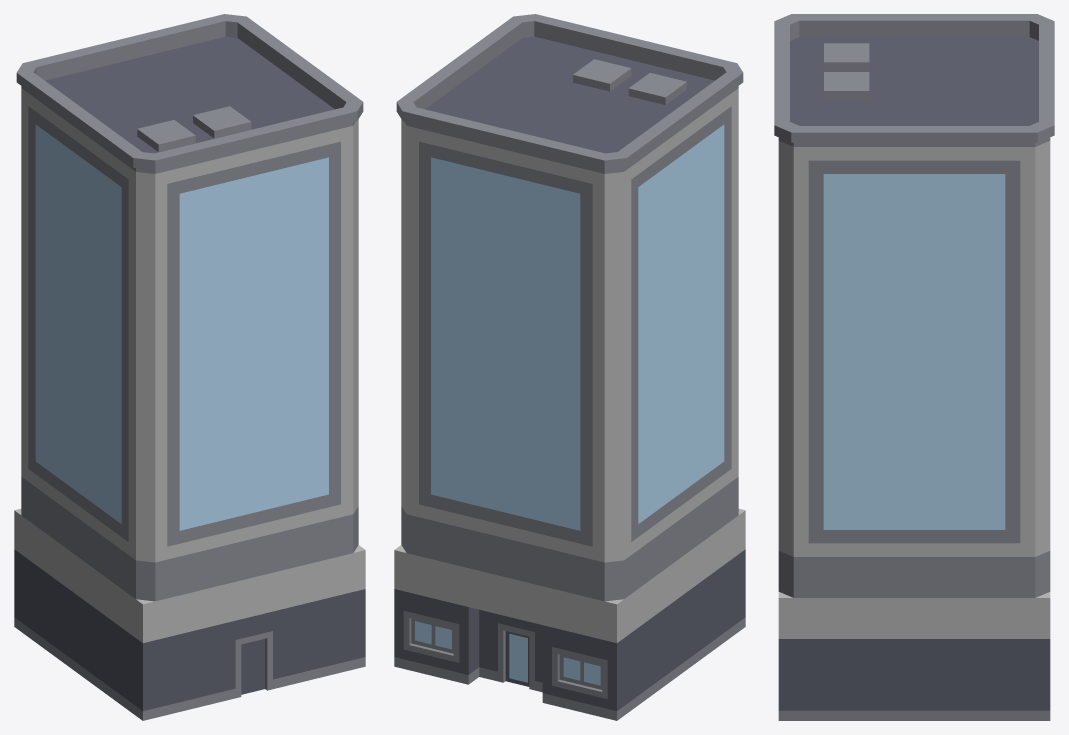
The model's file is skyscraperA.glb.
The picture shows the model from 3 angles, left to right: view 1: azimuth 30°, elevation 25°; view 2: azimuth 150°, elevation 25°; view 3: azimuth 270°, elevation 25°; orthographic projection. The views are drawn at different scales.
Parts seen in each view (by area): view 1: skyscraperA; view 2: skyscraperA; view 3: skyscraperA.
Part boxes in pixels (x1=…): skyscraperA: x1=14, y1=14, x2=365, y2=720; skyscraperA: x1=394, y1=14, x2=745, y2=720; skyscraperA: x1=774, y1=14, x2=1054, y2=720.
Bounding box in the file's own units: 1.24 × 2.88 × 1.24.
